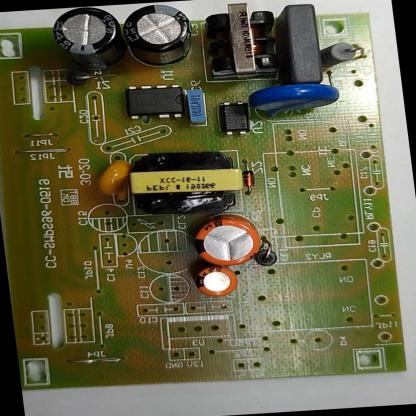Cap1: (187, 212, 279, 272)
Cap2: (195, 262, 250, 302)
Cap3: (117, 0, 199, 72)
Cap4: (45, 5, 136, 84)
MOSFET: (113, 80, 195, 124)
Mov: (236, 75, 348, 127)
Resistor: (318, 38, 367, 72)
Transformer: (115, 145, 256, 218), (193, 0, 292, 84)
